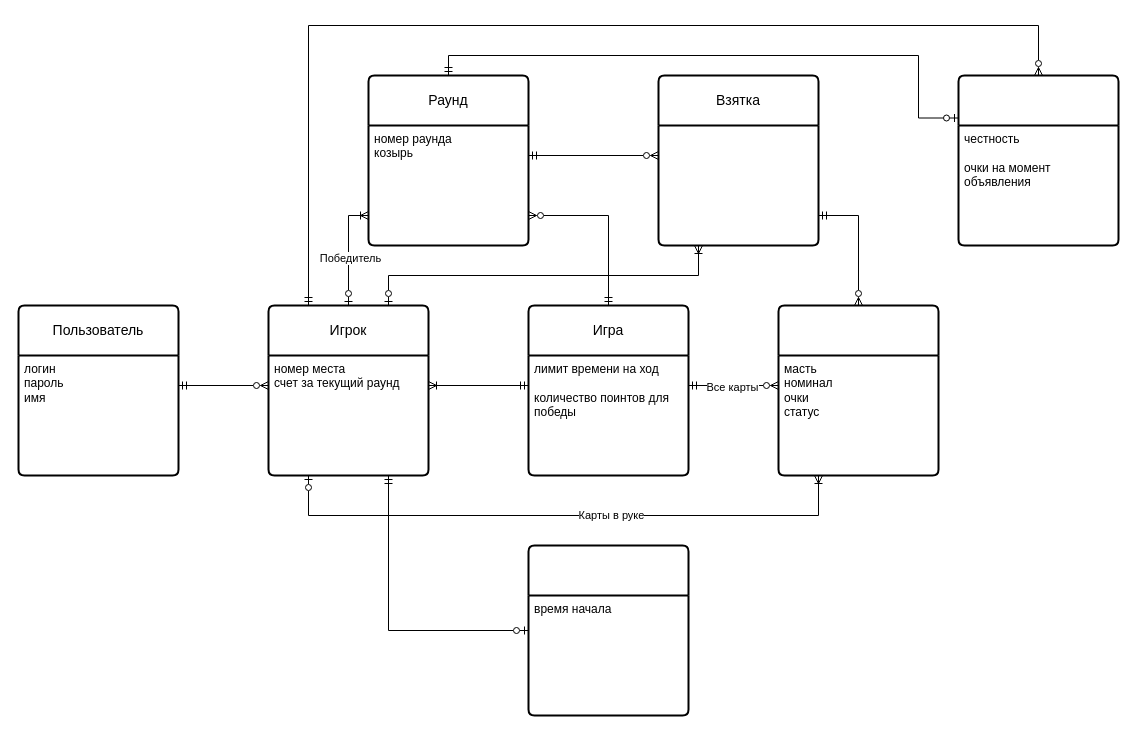
This 1136x734 diagram has some shape labels left out. The shapes that lost their labels are listed below. From the top down, each one's box as (x1, y1, x2, y2) in pixels, then its label:
(957, 74, 1119, 246): Шнапс
(777, 304, 939, 476): Карта
(527, 544, 689, 716): Ход
